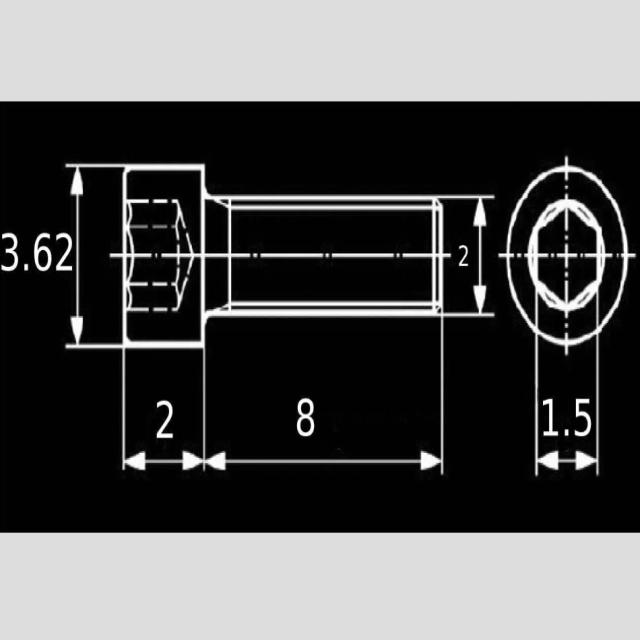marking_line: (207, 452, 442, 473), (69, 168, 87, 343), (124, 452, 202, 475), (540, 448, 598, 474)
numeric: (541, 395, 593, 443), (31, 226, 74, 274), (289, 392, 318, 438), (155, 396, 176, 443), (1, 232, 20, 279), (455, 244, 469, 272)
